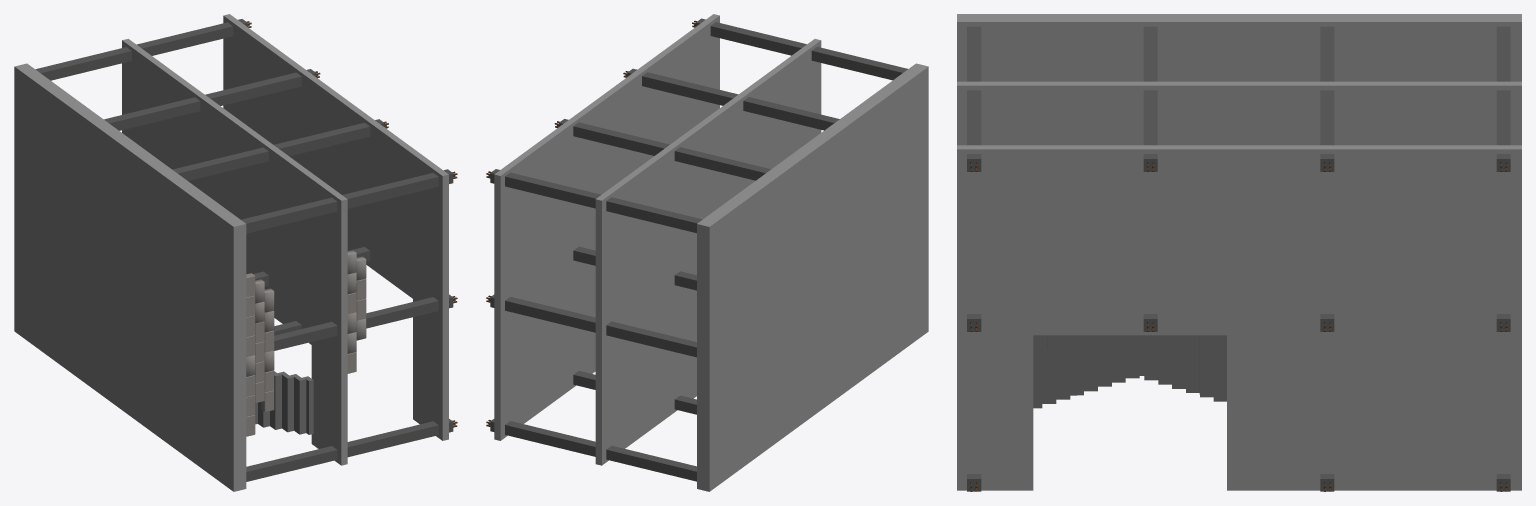
File: ConstructionBroke.fbx
3 views of the same model, side by side, from view 1: azimuth 30°, elevation 25°; view 2: azimuth 150°, elevation 25°; view 3: azimuth 270°, elevation 25° (orthographic). The views are drawn at different scales.
Visible parts, largest first — view 1: Construction_fracturepart127_2, Construction_fracturepart26_2, Construction_fracturepart109_2, Construction_fracturepart124_5, Construction_fracturepart28_2, Construction_fracturepart142, Construction_fracturepart21_2, Construction_fracturepart13, Construction_fracturepart16_2, Construction_fracturepart105_2, Construction_fracturepart76, Construction_fracturepart82_2 (+103 smaller); view 2: Construction_fracturepart127_2, Construction_fracturepart26_2, Construction_fracturepart131, Construction_fracturepart42_2, Construction_fracturepart28_2, Construction_fracturepart21_2, Construction_fracturepart101, Construction_fracturepart121, Construction_fracturepart82_2, Construction_fracturepart3, Construction_fracturepart39_2, Construction_fracturepart76 (+110 smaller); view 3: Construction_fracturepart42_2, Construction_fracturepart26_2, Construction_fracturepart127_2, Construction_fracturepart28_2, Construction_fracturepart3, Construction_fracturepart82_2, Construction_fracturepart142, Construction_fracturepart120, Construction_fracturepart16_2, Construction_fracturepart56_2, Construction_fracturepart101, Construction_fracturepart13 (+51 smaller).
Part boxes in pixels (box(x1,y1,x2,y2)): Construction_fracturepart127_2: box(184, 91, 258, 197); Construction_fracturepart26_2: box(122, 38, 199, 139); Construction_fracturepart109_2: box(274, 225, 324, 326); Construction_fracturepart124_5: box(312, 192, 347, 300); Construction_fracturepart28_2: box(366, 118, 421, 210); Construction_fracturepart142: box(398, 202, 448, 277); Construction_fracturepart21_2: box(252, 134, 316, 234); Construction_fracturepart13: box(413, 337, 448, 418); Construction_fracturepart16_2: box(289, 62, 355, 131); Construction_fracturepart105_2: box(418, 256, 448, 357); Construction_fracturepart76: box(94, 313, 129, 405); Construction_fracturepart82_2: box(334, 106, 377, 215); Construction_fracturepart127_2: box(663, 104, 737, 215); Construction_fracturepart26_2: box(595, 147, 673, 255); Construction_fracturepart131: box(611, 222, 664, 326); Construction_fracturepart42_2: box(494, 257, 541, 375); Construction_fracturepart28_2: box(637, 34, 698, 115); Construction_fracturepart21_2: box(726, 86, 796, 159); Construction_fracturepart101: box(494, 206, 534, 286); Construction_fracturepart121: box(595, 368, 643, 439); Construction_fracturepart82_2: box(611, 70, 654, 170); Construction_fracturepart3: box(525, 307, 588, 394); Construction_fracturepart39_2: box(595, 254, 629, 348); Construction_fracturepart76: box(789, 320, 824, 430); Construction_fracturepart42_2: box(1416, 285, 1521, 425); Construction_fracturepart26_2: box(1337, 81, 1521, 145); Construction_fracturepart127_2: box(1172, 81, 1358, 145); Construction_fracturepart28_2: box(1013, 145, 1153, 235); Construction_fracturepart3: box(1295, 380, 1457, 462); Construction_fracturepart82_2: box(1125, 145, 1236, 275); Construction_fracturepart142: box(957, 203, 1070, 303); Construction_fracturepart120: box(1313, 198, 1435, 296); Construction_fracturepart16_2: box(1197, 145, 1352, 211); Construction_fracturepart56_2: box(1227, 401, 1320, 490); Construction_fracturepart101: box(1435, 198, 1521, 296); Construction_fracturepart13: box(957, 375, 1033, 464).
Size of the model in its own units: 904 by 1000 by 1500.
1 material, 1 textured.
